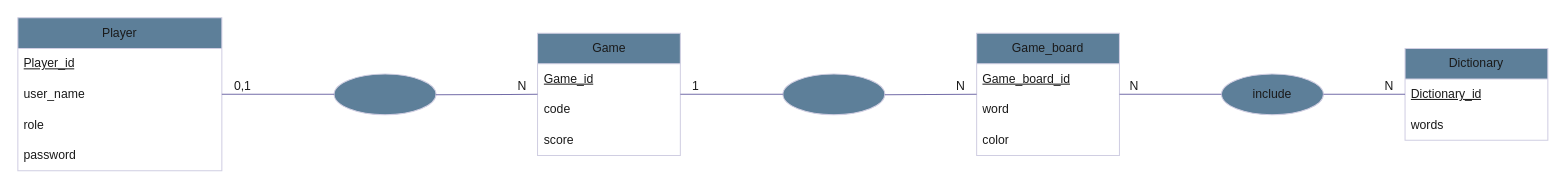
This 1566x189 diagram has some shape labels left out. Here are the shapes that lost their labels. From the top down, the centre of each, then its label:
point 384,94: Participate
point 833,94: Contains
